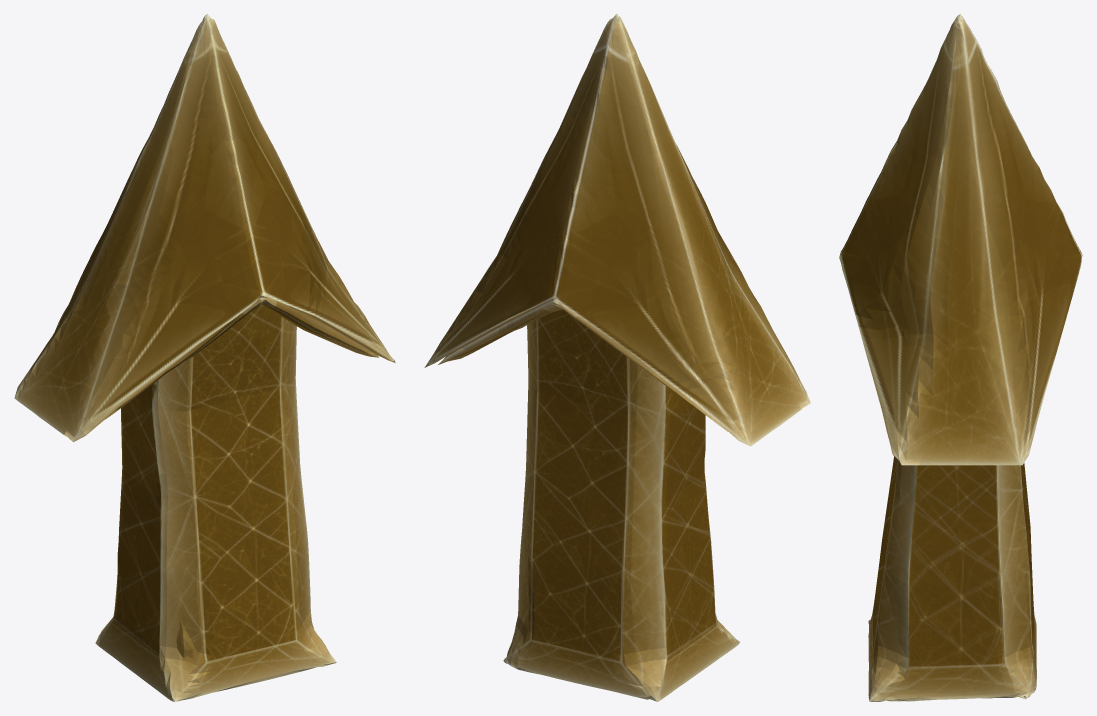
The model's file is Meshy_AI_Golden_Ascent_0918230523_texture.obj.
The picture shows the model from 3 angles, left to right: view 1: azimuth 30°, elevation 25°; view 2: azimuth 150°, elevation 25°; view 3: azimuth 270°, elevation 25°; orthographic projection.
Size of the model in its own units: 0.5199 by 0.9807 by 0.3351.
1 material, 1 textured.
